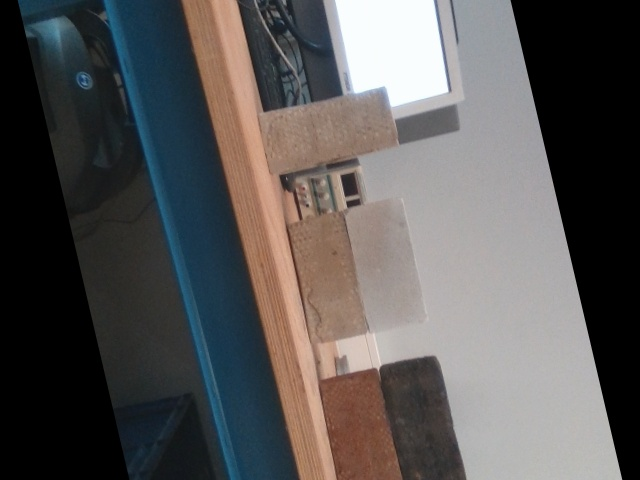brick: (260, 91, 394, 171), (345, 200, 423, 330), (382, 357, 464, 479), (292, 215, 365, 341), (326, 373, 400, 479)
